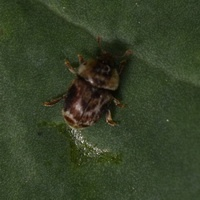insect: (42, 36, 131, 127)
